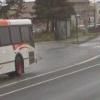Bus: (1, 9, 39, 80)
